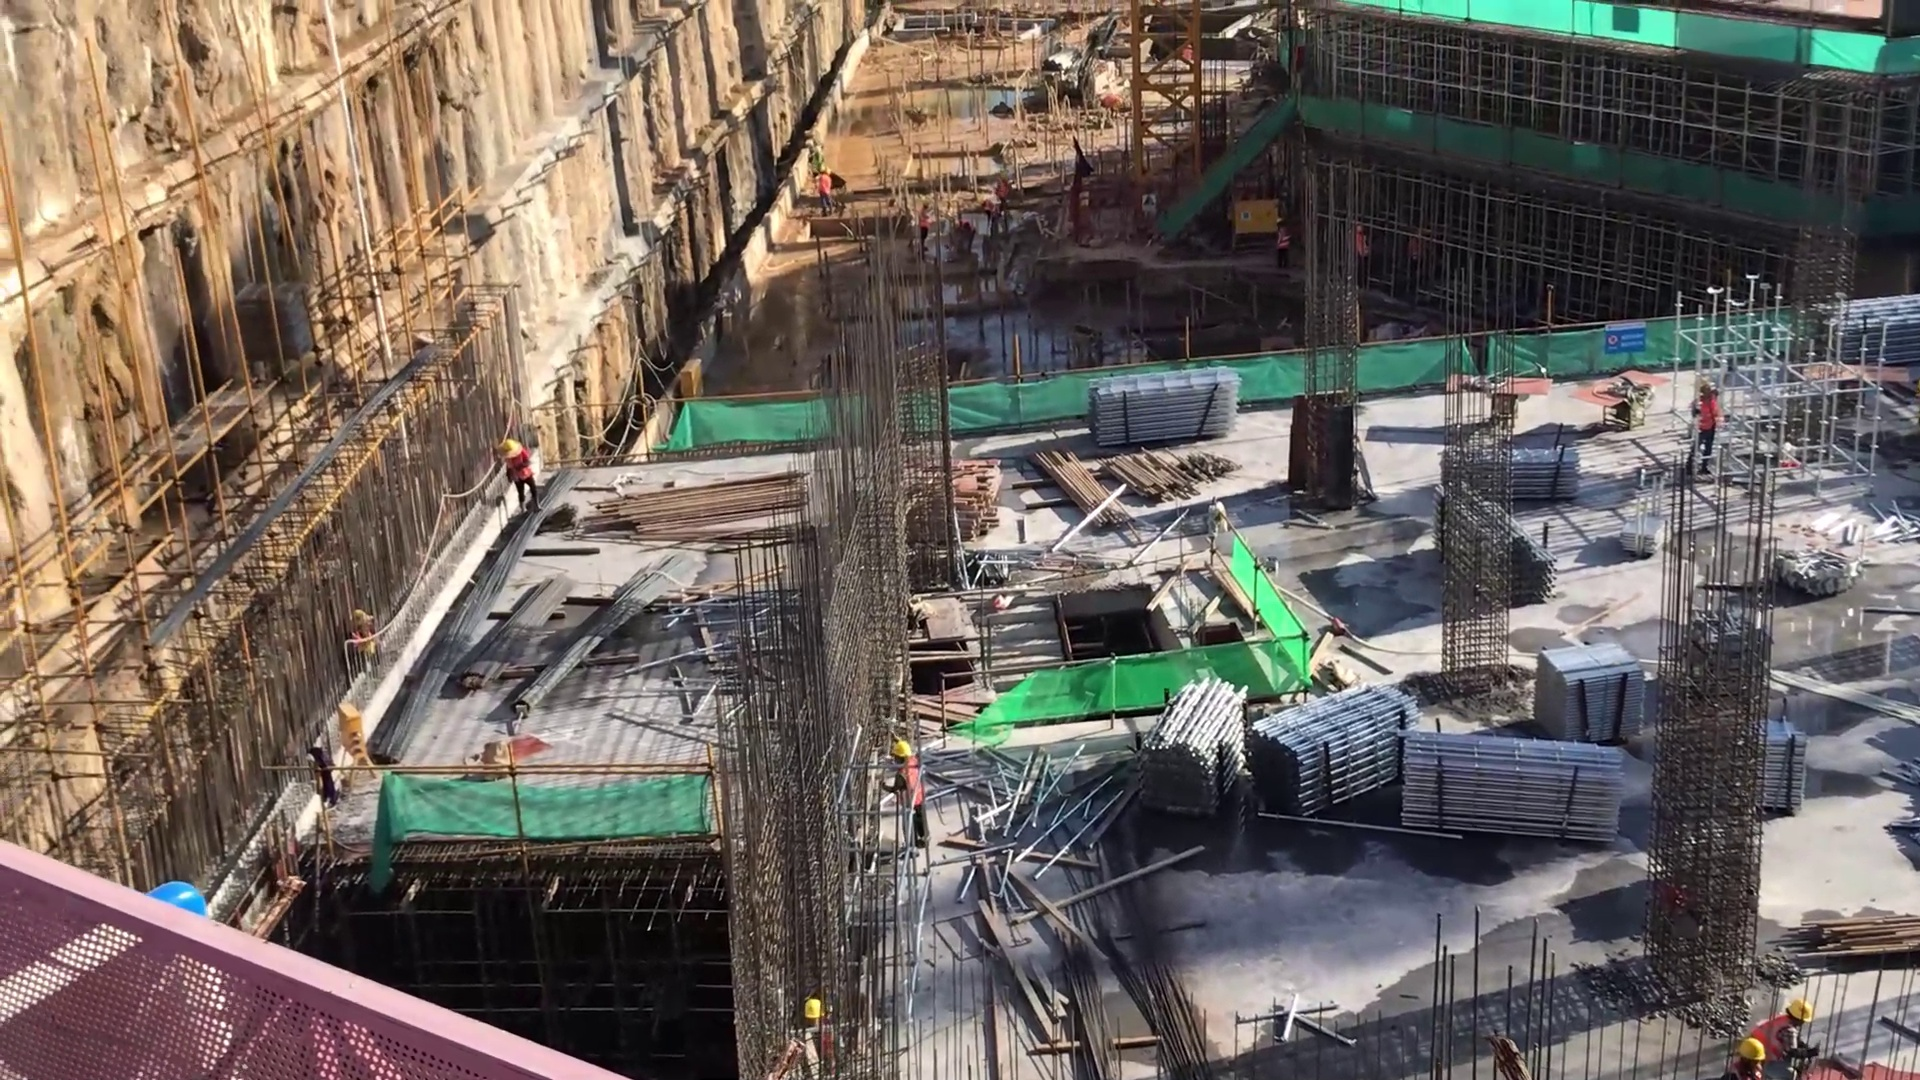cutter: (1444, 365, 1557, 436), (1577, 365, 1673, 434)
ebox: (1222, 193, 1291, 255)
helmet: (1777, 992, 1821, 1025), (1729, 1036, 1773, 1065), (794, 993, 828, 1021), (885, 733, 917, 760), (1694, 375, 1717, 400)
person: (879, 725, 938, 854), (1744, 995, 1828, 1078), (491, 428, 548, 523), (1682, 373, 1728, 466), (1707, 1032, 1771, 1080)
scaffold: (1249, 674, 1424, 820), (1396, 730, 1633, 837), (1132, 669, 1258, 825), (1083, 356, 1249, 459), (1531, 634, 1644, 750), (1829, 282, 1920, 367), (1504, 444, 1586, 499)
vest: (1751, 1011, 1799, 1067), (895, 759, 932, 816), (1693, 397, 1722, 436), (504, 453, 537, 486)
